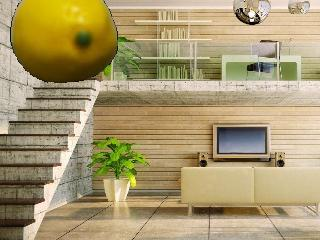lemon: (11, 0, 117, 84)
